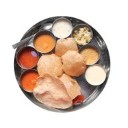poori: (63, 50, 86, 77), (39, 55, 64, 78), (56, 39, 78, 59)
